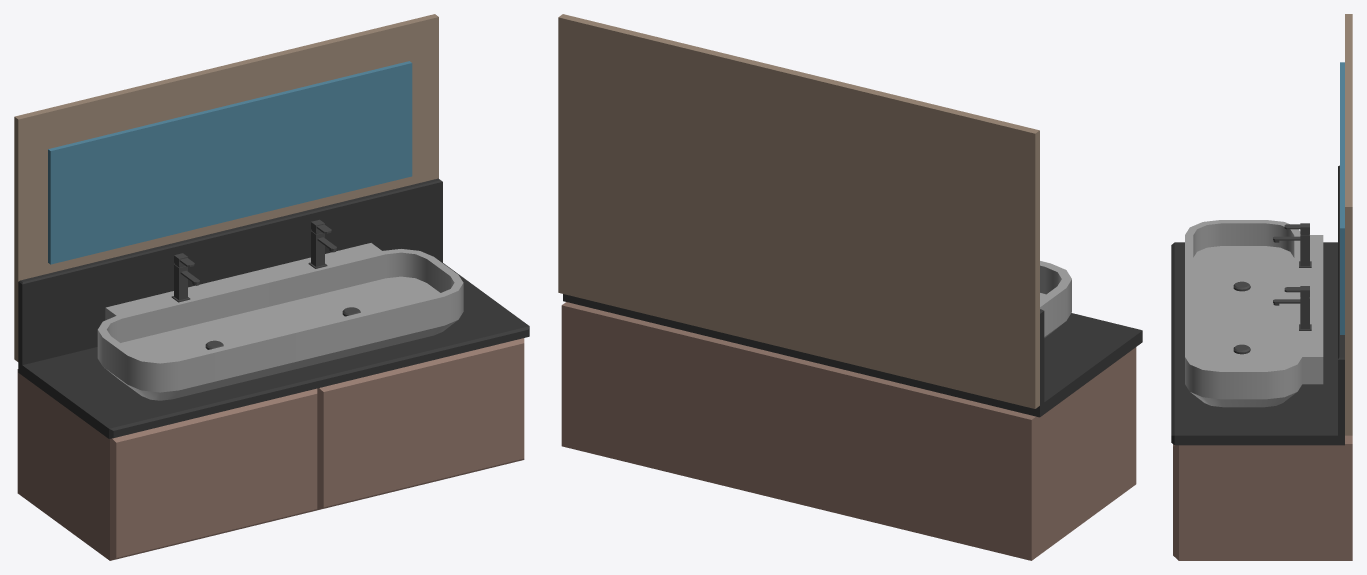
Rendered from bathroom_furniture002.glb.
The picture shows the model from 3 angles, left to right: view 1: azimuth 30°, elevation 25°; view 2: azimuth 150°, elevation 25°; view 3: azimuth 270°, elevation 25°; orthographic projection. The views are drawn at different scales.
Visible parts, largest first — view 1: bathroom_furniture.002; view 2: bathroom_furniture.002; view 3: bathroom_furniture.002.
Part boxes in pixels (box(x1,y1,x2,y2)): bathroom_furniture.002: box(14, 14, 529, 560); bathroom_furniture.002: box(558, 14, 1142, 560); bathroom_furniture.002: box(1171, 14, 1352, 560).
Size of the model in its own units: 1.56 by 1.34 by 0.6196.
1 material, 1 textured.
